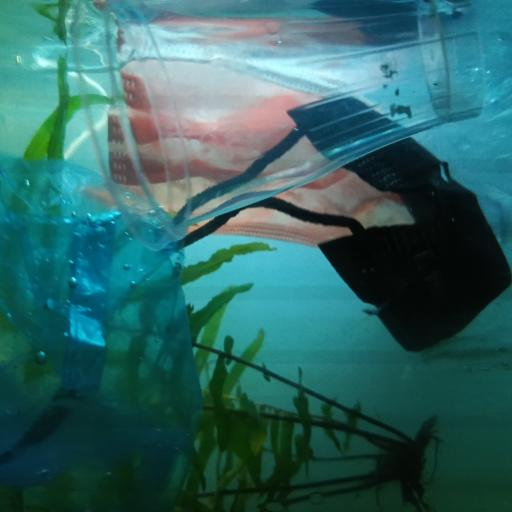mask: (176, 92, 508, 353), (106, 53, 417, 244)
plastic_bag: (0, 153, 205, 512)
plastic_cup: (67, 0, 487, 252)
